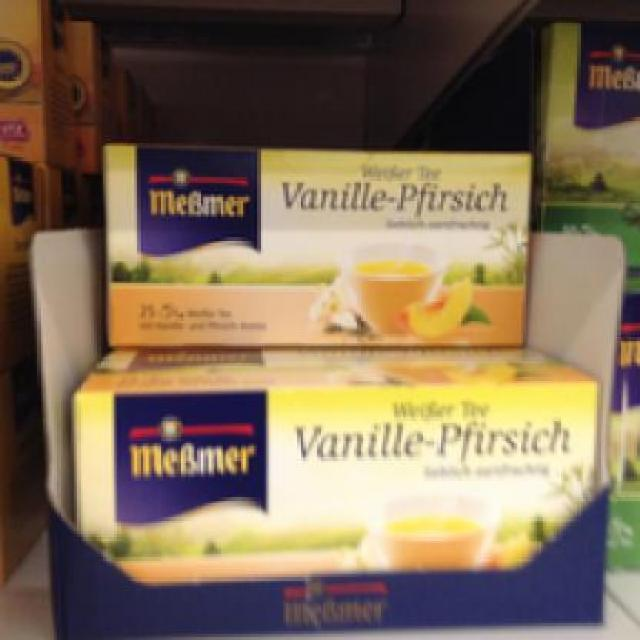Tea: (63, 348, 600, 574), (94, 137, 532, 346)
